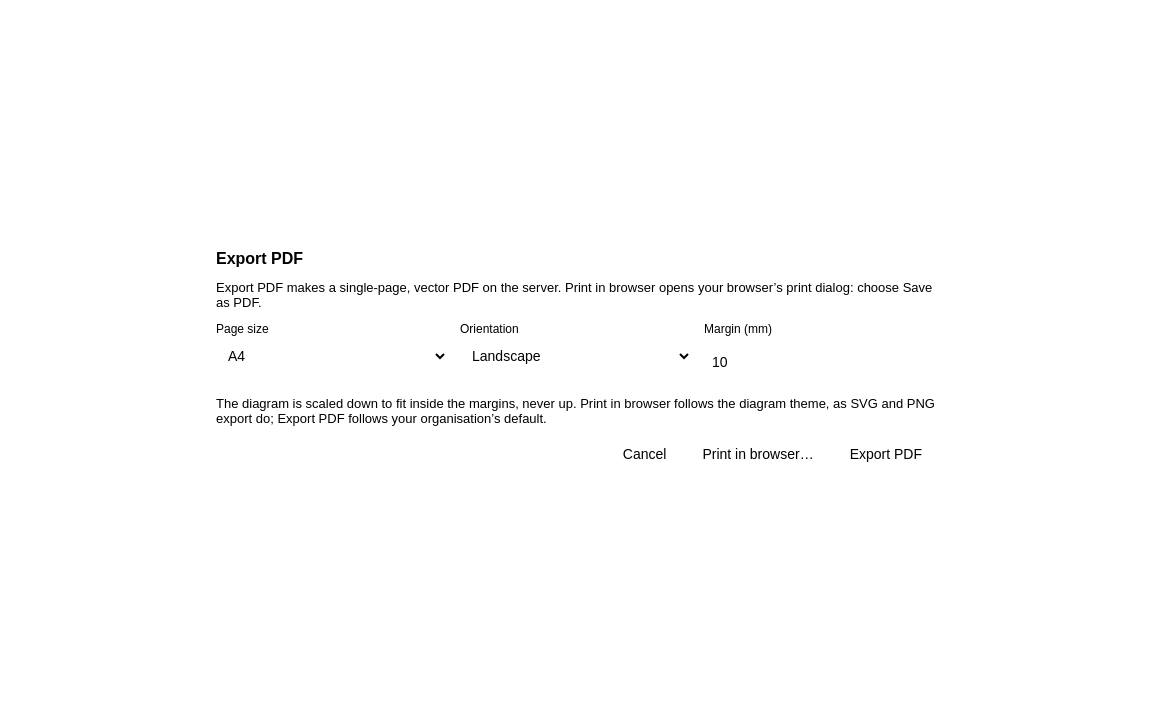
Test: ExportPdfDialog › refuses a margin outside 0 to 50 mm before asking the server
Replace the text in the number field labelled "Margin (mm)" with "80" at [820, 362], box [704,340,936,384]
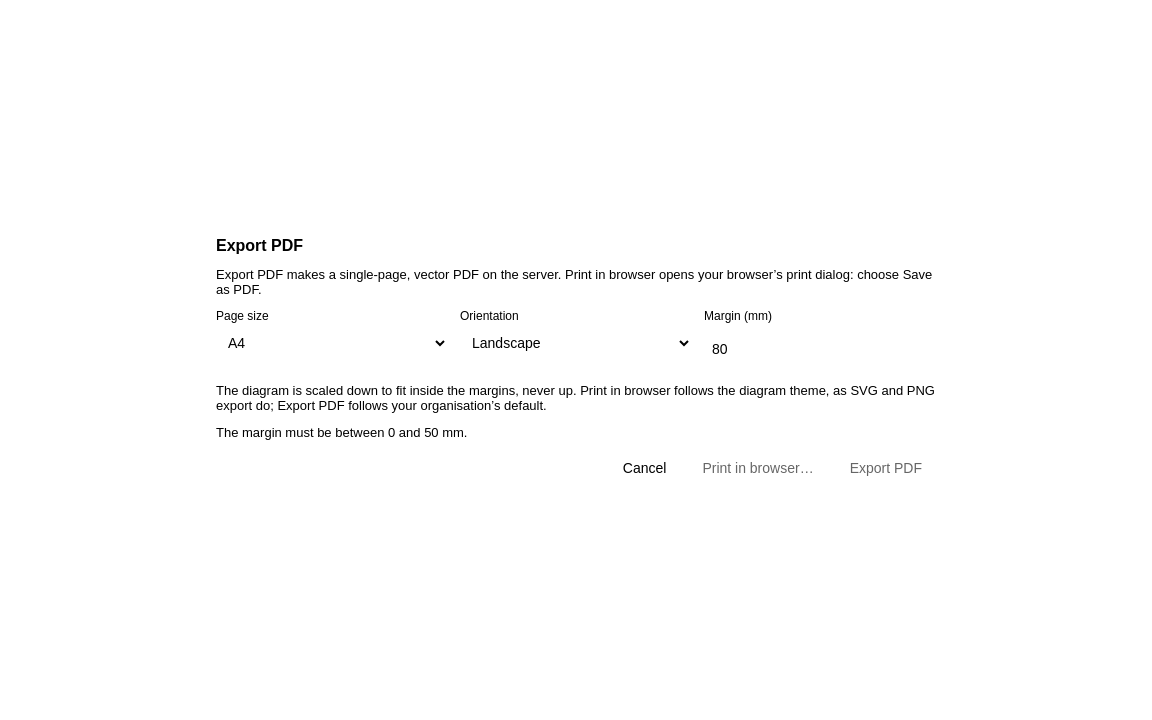
Now the message shows "between 0 and 50", box [216,424,468,440]
Now the button "Export PDF" is disabled, box [836,452,936,484]
Replace the text in the number field labelled "Margin (mm)" with "0" at [820, 348], box [704,326,936,370]
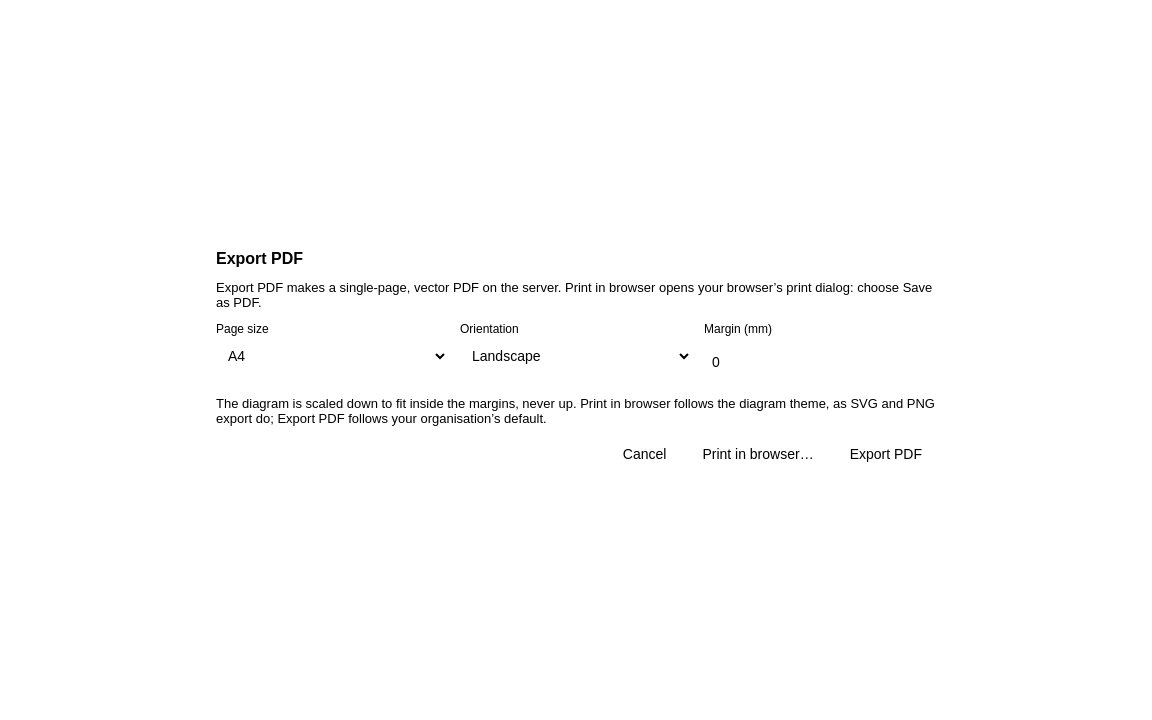
Now the button "Export PDF" is enabled, box [836,438,936,470]
